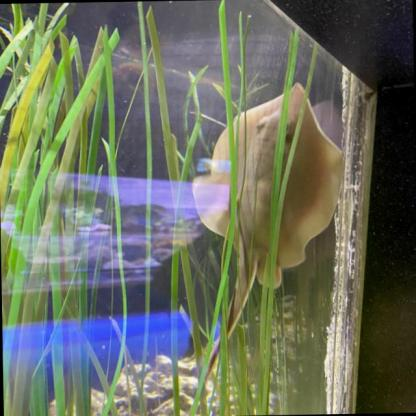stingray: (190, 81, 348, 291)
